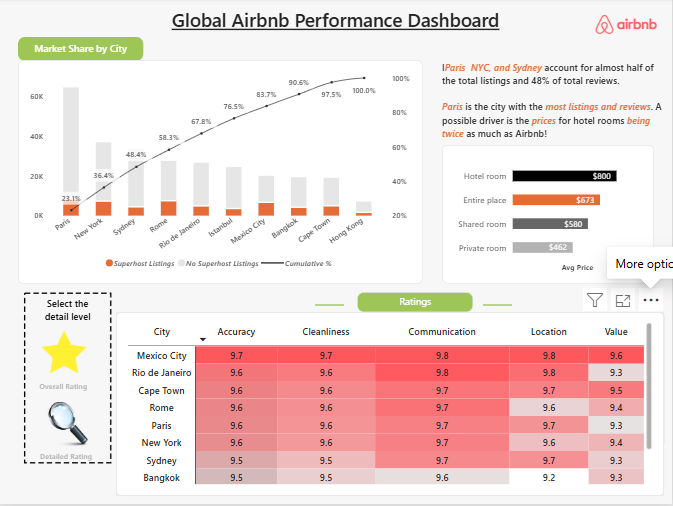

The page's visual inventory and layout, read from the dashboard file:
{"tool":"powerbi","page":{"name":"Ratings","canvas":[960,720],"ordinal":1},"visuals":[{"type":"textbox","box":[129.2,9.9,701.6,76.5],"z":0},{"type":"image","box":[830.6,21.3,129,26.9],"z":1000},{"type":"textbox","box":[25,52.5,178.8,33.8],"z":2000},{"type":"textbox","box":[631.2,86.2,319,124],"z":3000},{"type":"lineStackedColumnComboChart","fields":{"Category":["Listings.city"],"Y":["Listings.Superhost Listings","Listings.No Superhost Listings"],"Y2":["Listings.Cumulative %"]},"box":[25,86.2,577.8,320],"z":4000},{"type":"barChart","fields":{"Category":["Listings.room_type"],"Y":["Listings.Avg Price"]},"box":[631.2,207.5,303.3,198.4],"z":5000},{"type":"columnChart","fields":{"Category":["Listings.city"],"Y":["Listings.Avg Rating"]},"box":[166.2,446.2,783.8,193.8],"z":6000},{"type":"image","box":[1.4,360,191.4,360],"z":7000},{"type":"pivotTable","fields":{"Rows":["Listings.city"],"Values":["Listings.Accuracy","Listings.Cleanliness","Listings.Communication","Listings.Location","Listings.Value"]},"box":[166.2,446.2,782.5,262.5],"z":8000},{"type":"image","box":[57.1,462.9,68.8,80],"z":8000,"group":"g1"},{"type":"textbox","box":[510,417.5,166.2,28.8],"z":9000},{"type":"image","box":[60,574.3,73.8,65],"z":9000,"group":"g2"},{"type":"shape","box":[450,383.8,41.4,102.9],"z":10000},{"type":"shape","box":[690,383.8,41.4,102.9],"z":11000},{"type":"textbox","box":[54.3,422.9,85,45],"z":12000},{"type":"group","id":"g1","title":"Group 1","box":[30,462.9,121.2,114.6],"z":13000},{"type":"group","id":"g2","title":"Group 2","box":[57.1,574.3,171.4,104.3],"z":14000},{"type":"textbox","box":[30,540,121.2,37.5],"z":15000,"group":"g1"},{"type":"textbox","box":[57.1,640,171.4,38.6],"z":15001,"group":"g2"}]}

Visuals, with their boxes in screenshot pixels (x1, y1, x2, y2), scaled from the page's 960x720 canvas onto the 673x506 screenshot:
textbox: l=91, t=7, r=582, b=61
image: l=582, t=15, r=672, b=34
textbox: l=18, t=37, r=143, b=61
textbox: l=442, t=61, r=666, b=148
lineStackedColumnComboChart - Listings.city x Listings.Superhost Listings: l=18, t=61, r=423, b=285
barChart - Listings.room_type x Listings.Avg Price: l=442, t=146, r=655, b=285
columnChart - Listings.city x Listings.Avg Rating: l=117, t=314, r=666, b=450
image: l=1, t=253, r=135, b=505
pivotTable - Listings.city x Listings.Accuracy: l=117, t=314, r=665, b=498
image: l=40, t=325, r=88, b=382
textbox: l=358, t=293, r=474, b=314
image: l=42, t=404, r=94, b=449
shape: l=315, t=270, r=344, b=342
shape: l=484, t=270, r=513, b=342
textbox: l=38, t=297, r=98, b=329
"Group 1" group: l=21, t=325, r=106, b=406
"Group 2" group: l=40, t=404, r=160, b=477
textbox: l=21, t=379, r=106, b=406
textbox: l=40, t=450, r=160, b=477
